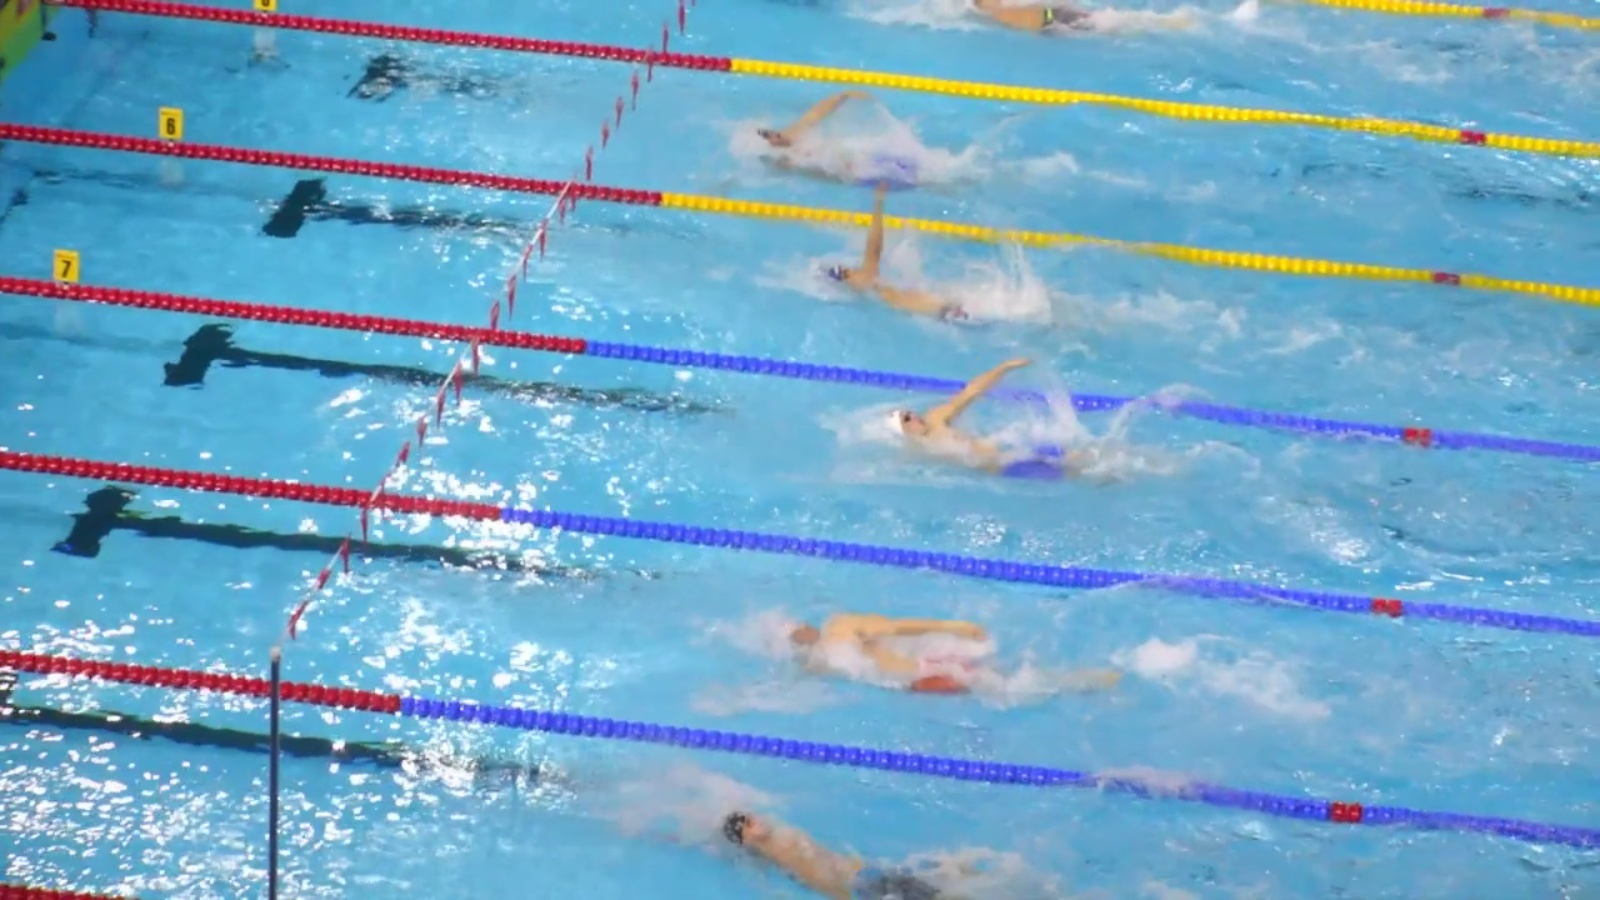swimmerw: (879, 363, 1193, 488), (777, 616, 1126, 716), (819, 187, 1047, 323), (695, 799, 973, 900), (747, 88, 981, 197), (958, 1, 1214, 44)
